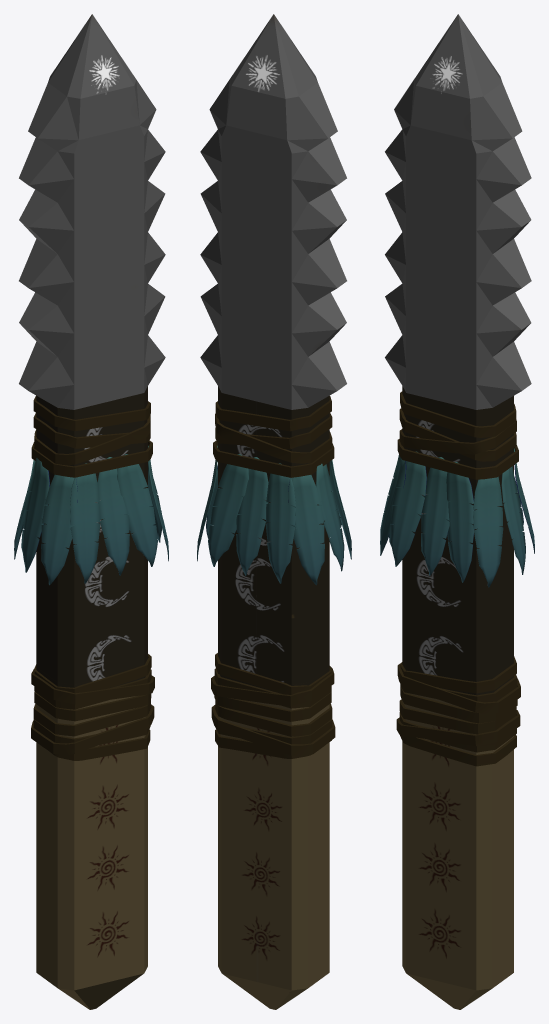
The model's file is ArponCompleto.fbx.
3 views of the same model, side by side, from view 1: azimuth 30°, elevation 25°; view 2: azimuth 150°, elevation 25°; view 3: azimuth 330°, elevation 25° (orthographic).
Visible parts, largest first — view 1: Cylinder, Cylinder.013, Cube.006; view 2: Cylinder, Cylinder.013, Cube.006; view 3: Cylinder, Cylinder.013, Cube.006.
Boxes of the visible parts, x1=… form: Cylinder: x1=19, y1=14, x2=165, y2=1009; Cylinder.013: x1=31, y1=395, x2=154, y2=760; Cube.006: x1=14, y1=445, x2=168, y2=585; Cylinder: x1=200, y1=14, x2=346, y2=1009; Cylinder.013: x1=211, y1=396, x2=335, y2=758; Cube.006: x1=197, y1=445, x2=351, y2=585; Cylinder: x1=385, y1=14, x2=531, y2=1009; Cylinder.013: x1=396, y1=391, x2=520, y2=766; Cube.006: x1=380, y1=448, x2=534, y2=587.
Bounding box in the file's own units: 0.0939 × 0.6494 × 0.0668.
3 materials, 3 textured.
